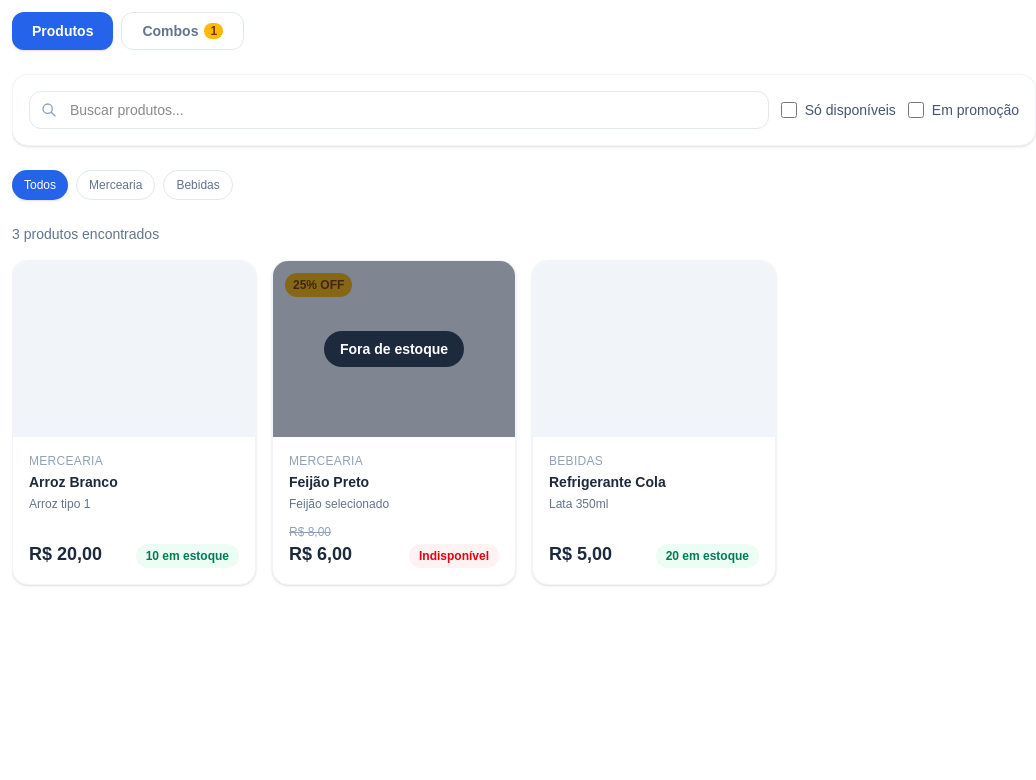
CatalogoClient › filtra somente produtos em promoção quando o checkbox é marcado
Click the checkbox labelled "Em promoção" at (916, 110), box [908, 102, 924, 118]
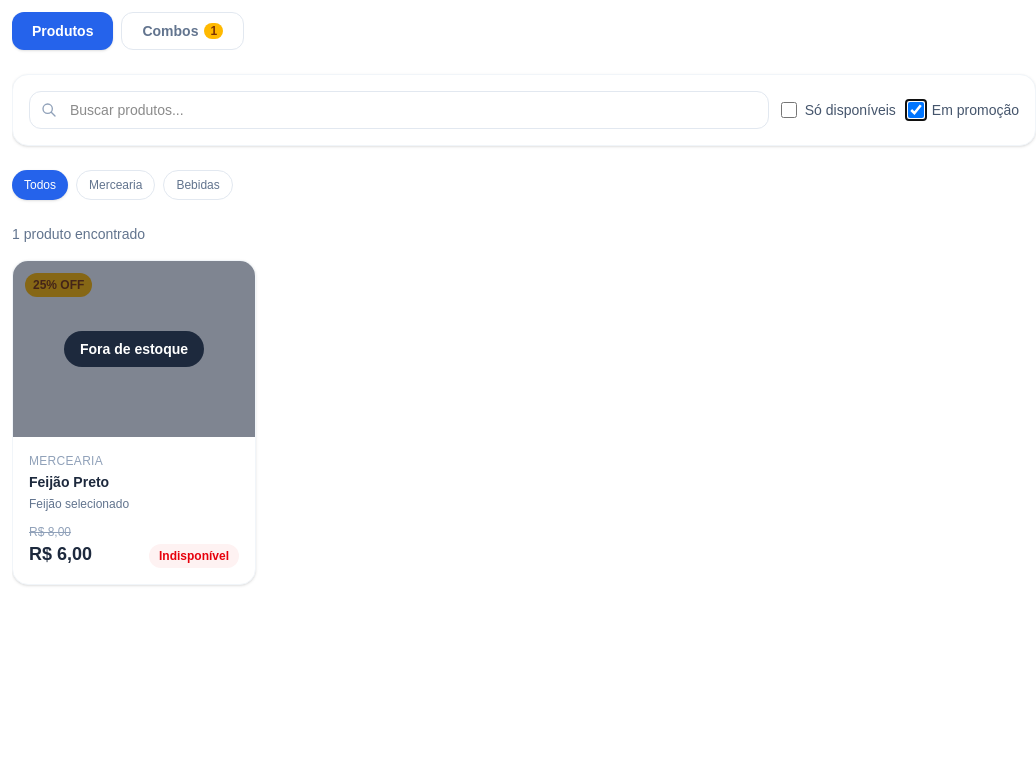
Expected: the heading "Feijão Preto" is shown, [29, 474, 109, 490]
Expected: the text "1 produto encontrado" is shown, [12, 226, 145, 242]
